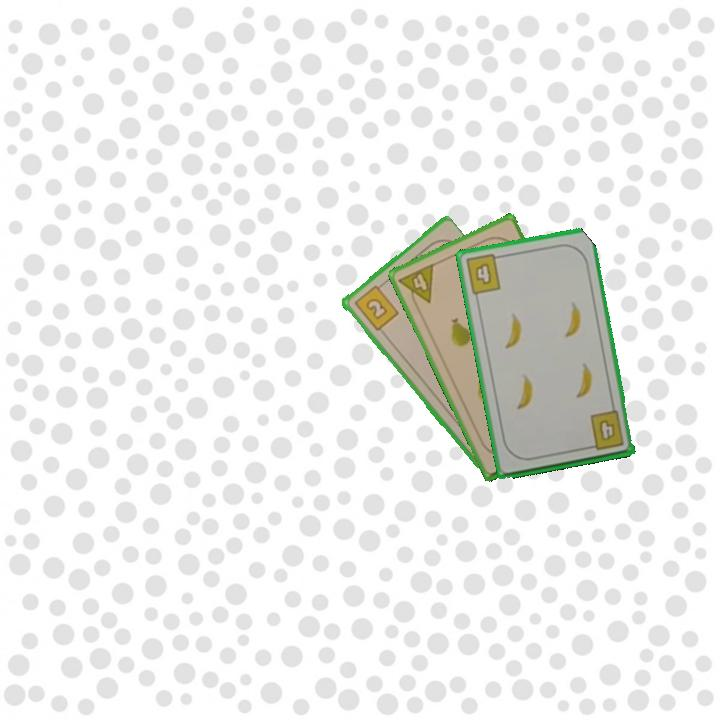2b: (350, 279, 401, 334)
4b: (583, 407, 627, 453), (462, 251, 505, 297)
4p: (395, 260, 437, 311)
